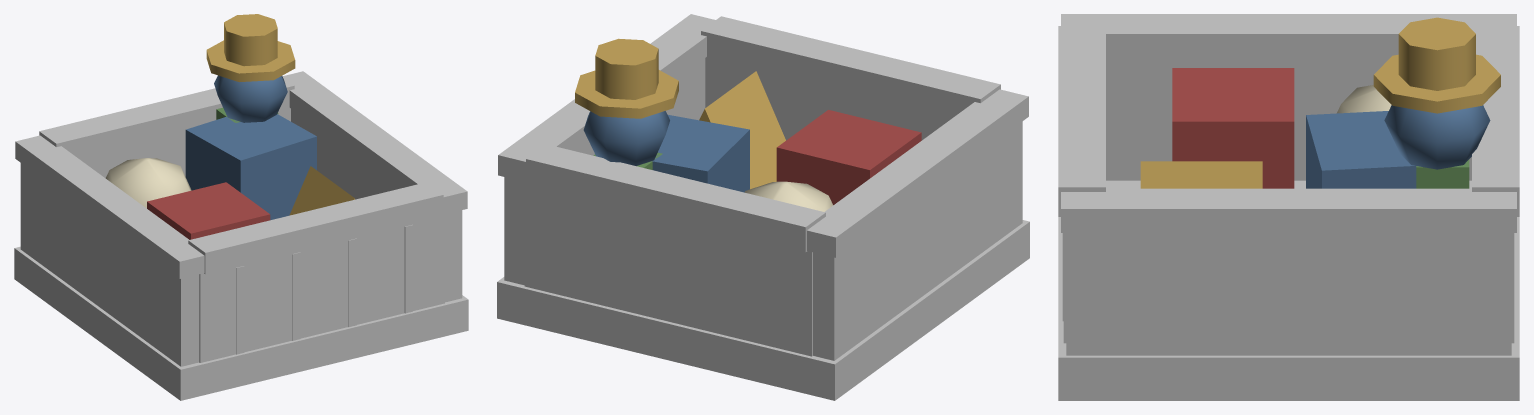
File: toy_box.obj
The picture shows the model from 3 angles, left to right: view 1: azimuth 30°, elevation 25°; view 2: azimuth 150°, elevation 25°; view 3: azimuth 270°, elevation 25°; orthographic projection. The views are drawn at different scales.
Parts seen in each view (by area): view 1: source_component_003, source_component_001, source_component_000, source_component_014, source_component_007, source_component_005, source_component_006, source_component_008, source_component_002, source_component_013, source_component_015, source_component_018 (+8 smaller); view 2: source_component_004, source_component_001, source_component_000, source_component_008, source_component_007, source_component_005, source_component_013, source_component_003, source_component_006, source_component_014, source_component_016, source_component_002 (+4 smaller); view 3: source_component_002, source_component_000, source_component_006, source_component_005, source_component_001, source_component_013, source_component_007, source_component_014, source_component_008, source_component_018, source_component_020, source_component_019 (+5 smaller).
Boxes of the visible parts, bbox=[...] form: source_component_003: bbox=[199, 214, 444, 362]; source_component_001: bbox=[20, 163, 199, 366]; source_component_000: bbox=[14, 246, 468, 400]; source_component_014: bbox=[185, 114, 316, 220]; source_component_007: bbox=[188, 182, 443, 274]; source_component_005: bbox=[15, 135, 204, 278]; source_component_006: bbox=[282, 71, 467, 214]; source_component_008: bbox=[39, 77, 294, 159]; source_component_002: bbox=[291, 109, 462, 302]; source_component_013: bbox=[147, 182, 270, 239]; source_component_015: bbox=[105, 158, 191, 208]; source_component_018: bbox=[214, 75, 287, 122]; source_component_004: bbox=[524, 182, 812, 356]; source_component_001: bbox=[813, 121, 1022, 360]; source_component_000: bbox=[497, 220, 1029, 400]; source_component_008: bbox=[526, 144, 825, 252]; source_component_007: bbox=[701, 16, 1000, 117]; source_component_005: bbox=[807, 89, 1028, 257]; source_component_013: bbox=[776, 110, 921, 204]; source_component_003: bbox=[705, 57, 952, 140]; source_component_006: bbox=[498, 14, 715, 181]; source_component_014: bbox=[652, 115, 749, 192]; source_component_016: bbox=[699, 71, 785, 189]; source_component_002: bbox=[504, 58, 705, 285]; source_component_002: bbox=[1066, 233, 1511, 355]; source_component_000: bbox=[1058, 180, 1519, 400]; source_component_006: bbox=[1061, 188, 1516, 232]; source_component_005: bbox=[1061, 14, 1516, 58]; source_component_001: bbox=[1106, 58, 1471, 180]; source_component_013: bbox=[1172, 68, 1294, 188]; source_component_007: bbox=[1058, 26, 1105, 216]; source_component_014: bbox=[1306, 111, 1416, 188]; source_component_008: bbox=[1472, 26, 1519, 216]; source_component_018: bbox=[1384, 105, 1490, 169]; source_component_020: bbox=[1398, 17, 1475, 90]; source_component_019: bbox=[1373, 54, 1500, 113].
Size of the model in its own units: 0.87 by 0.65 by 0.87.
